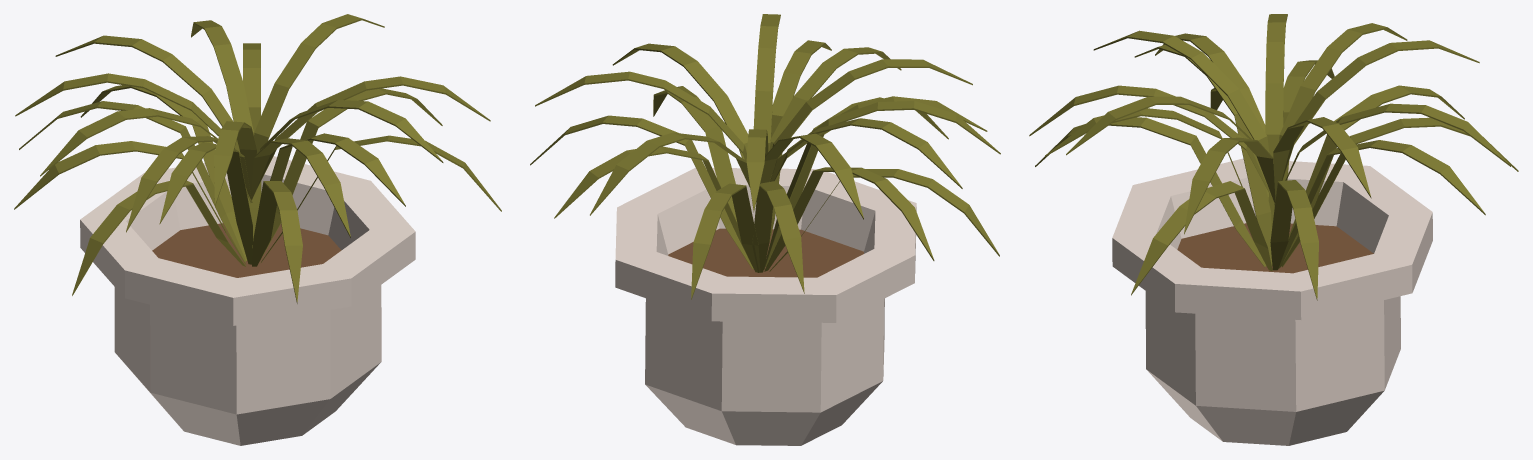
Rendered from Flower_25.fbx.
3 renders of one model, left to right at view 1: azimuth 30°, elevation 25°; view 2: azimuth 150°, elevation 25°; view 3: azimuth 270°, elevation 25°, orthographic. The views are drawn at different scales.
Visible parts, largest first — view 1: Flower_25; view 2: Flower_25; view 3: Flower_25.
Boxes of the visible parts, box(x1,y1,x2,y2) form: Flower_25: box(14, 14, 501, 445); Flower_25: box(530, 14, 1000, 445); Flower_25: box(1029, 14, 1518, 445).
Size of the model in its own units: 24.3 by 24.02 by 18.45.
